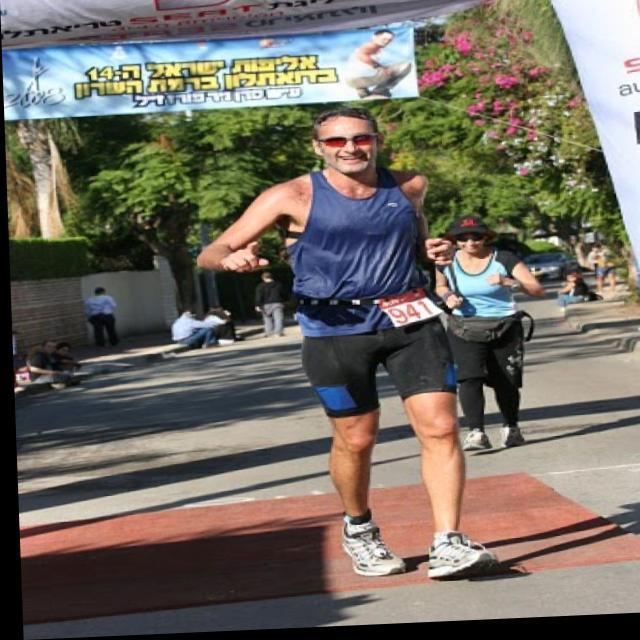dorsal: (366, 290, 451, 333)
